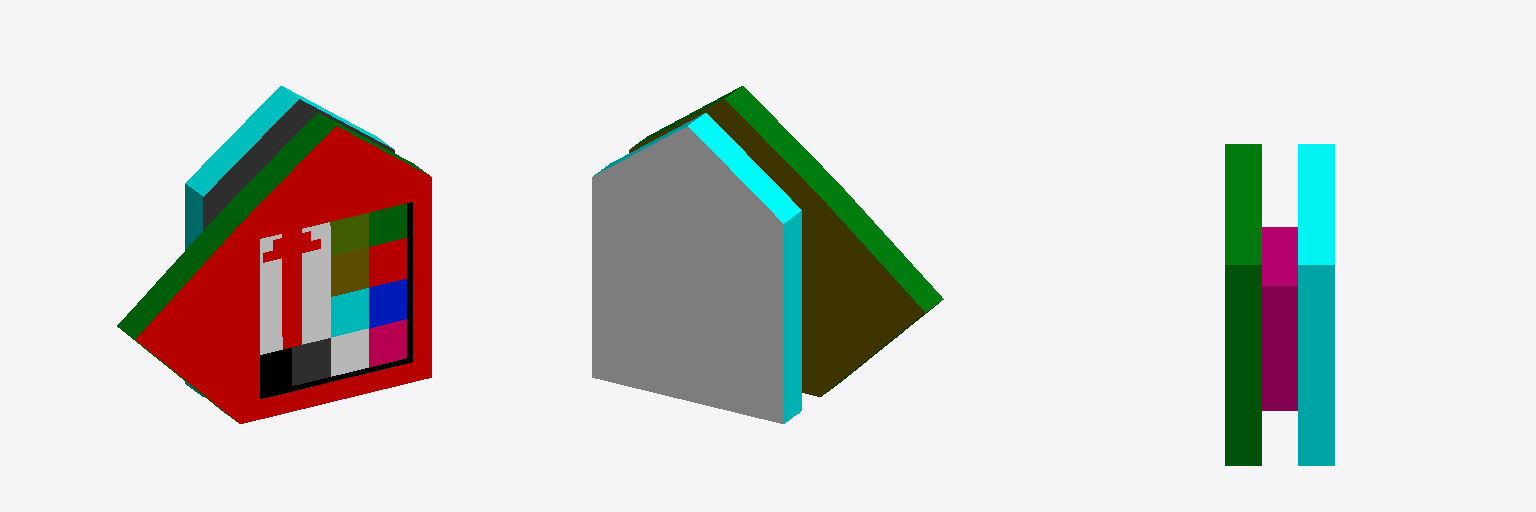
3 renders of one model, left to right at view 1: azimuth 30°, elevation 25°; view 2: azimuth 150°, elevation 25°; view 3: azimuth 270°, elevation 25°, orthographic.
Visible parts, largest first — view 1: Cube_Cube.001; view 2: Cube_Cube.001; view 3: Cube_Cube.001.
Boxes of the visible parts, box(x1,y1,x2,y2) form: Cube_Cube.001: box(117, 86, 431, 423); Cube_Cube.001: box(592, 86, 943, 423); Cube_Cube.001: box(1225, 144, 1334, 465).
Bounding box in the file's own units: 3.1 × 2.74 × 1.
Materials: 2 (1 with a texture image).